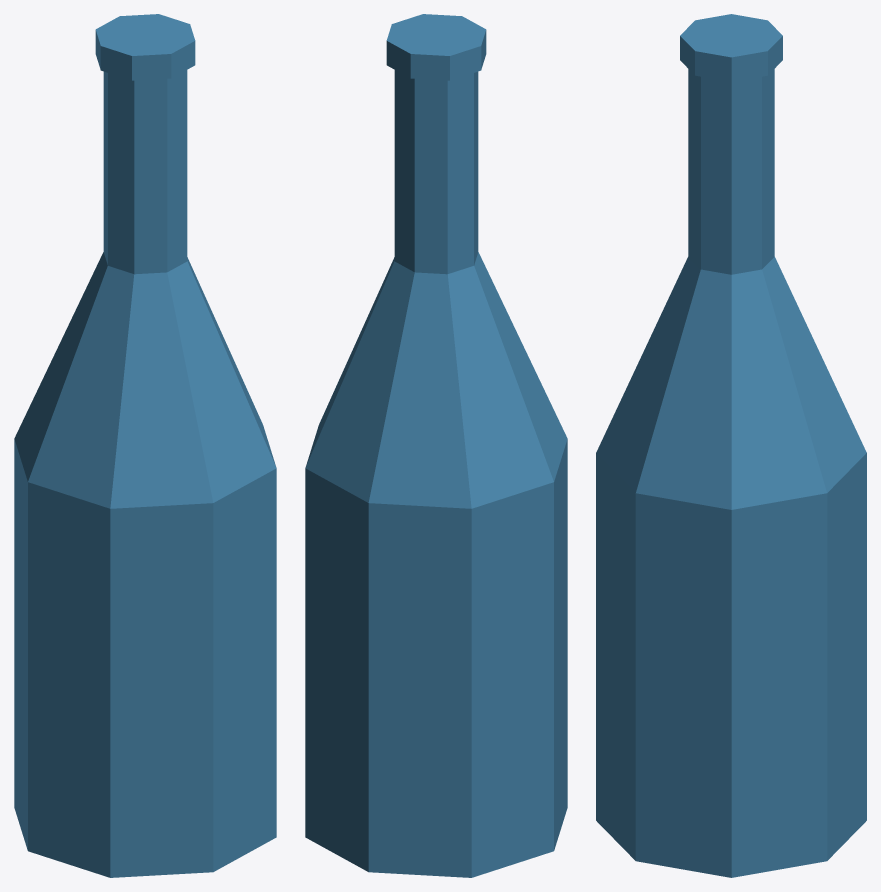
File: bottle-blue.glb
The picture shows the model from 3 angles, left to right: view 1: azimuth 30°, elevation 25°; view 2: azimuth 150°, elevation 25°; view 3: azimuth 270°, elevation 25°; orthographic projection.
Parts seen in each view (by area): view 1: bottle; view 2: bottle; view 3: bottle.
Boxes of the visible parts, x1=… form: bottle: x1=14, y1=14, x2=276, y2=877; bottle: x1=305, y1=14, x2=567, y2=877; bottle: x1=596, y1=14, x2=866, y2=877.
Size of the model in its own units: 0.1 by 0.32 by 0.1.
